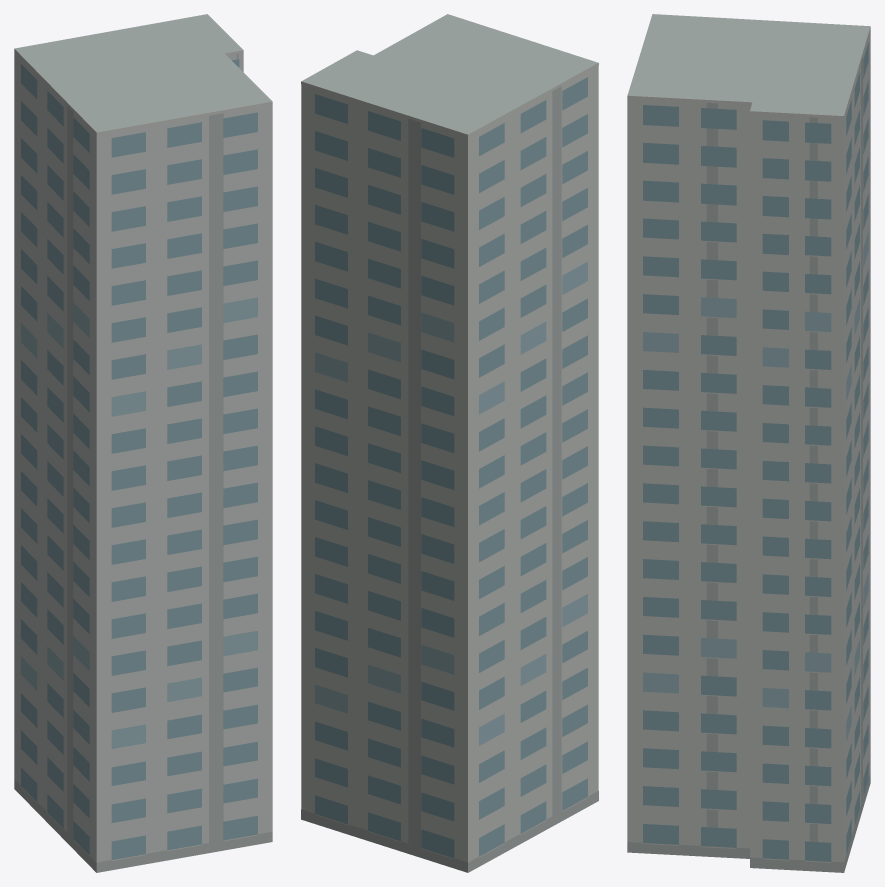
The model's file is residential-9611b5ee-6f9a-4471-9ab1-30a41092f67e.glb.
The picture shows the model from 3 angles, left to right: view 1: azimuth 30°, elevation 25°; view 2: azimuth 150°, elevation 25°; view 3: azimuth 270°, elevation 25°; orthographic projection. The views are drawn at different scales.
Parts seen in each view (by area): view 1: residential-9611b5ee-6f9a-4471-9ab1-30a41092f67e.tmp; view 2: residential-9611b5ee-6f9a-4471-9ab1-30a41092f67e.tmp; view 3: residential-9611b5ee-6f9a-4471-9ab1-30a41092f67e.tmp.
Part boxes in pixels (x1,y1,x2,y2): residential-9611b5ee-6f9a-4471-9ab1-30a41092f67e.tmp: (14, 14, 272, 872); residential-9611b5ee-6f9a-4471-9ab1-30a41092f67e.tmp: (301, 14, 598, 872); residential-9611b5ee-6f9a-4471-9ab1-30a41092f67e.tmp: (627, 14, 870, 872).
Bounding box in the file's own units: 17.95 × 62 × 18.07.
